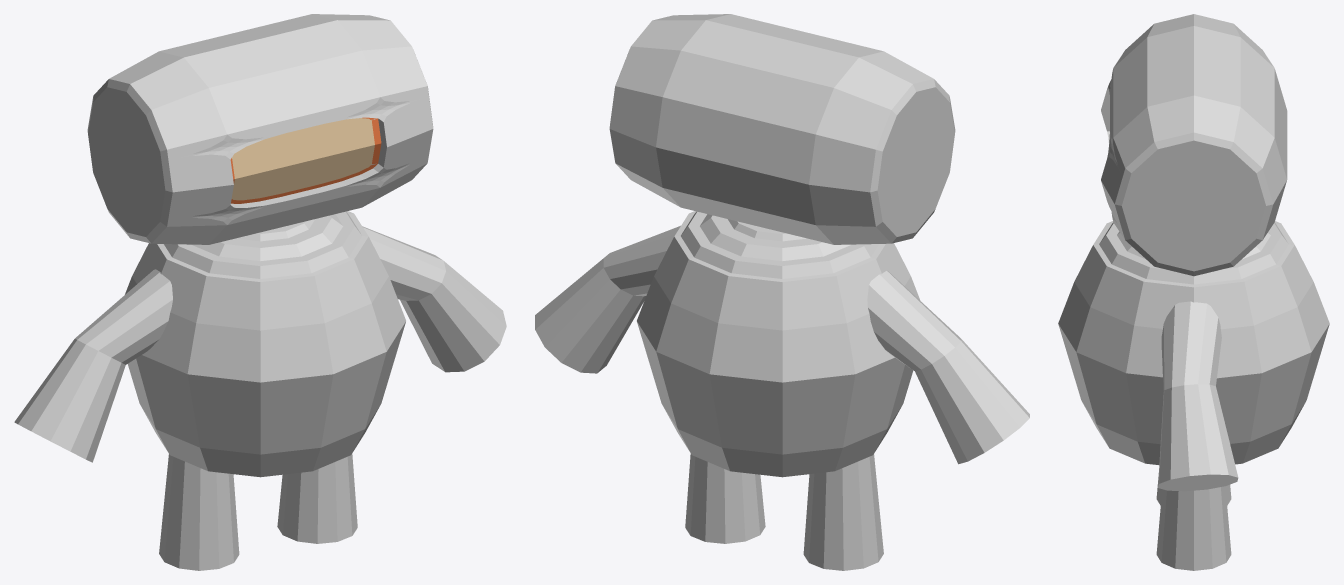
File: robo_helper_03.fbx
3 renders of one model, left to right at view 1: azimuth 30°, elevation 25°; view 2: azimuth 150°, elevation 25°; view 3: azimuth 270°, elevation 25°, orthographic. The views are drawn at different scales.
Parts seen in each view (by area): view 1: Cylinder.008, Cylinder.006; view 2: Cylinder.008, Cylinder.006; view 3: Cylinder.008.
Boxes of the visible parts, x1,y1,x2,y2 form: Cylinder.008: [14, 14, 506, 543]; Cylinder.006: [159, 454, 239, 570]; Cylinder.008: [535, 14, 1029, 543]; Cylinder.006: [803, 454, 883, 570]; Cylinder.008: [1058, 14, 1329, 570].
Size of the model in its own units: 241 by 242 by 127.
